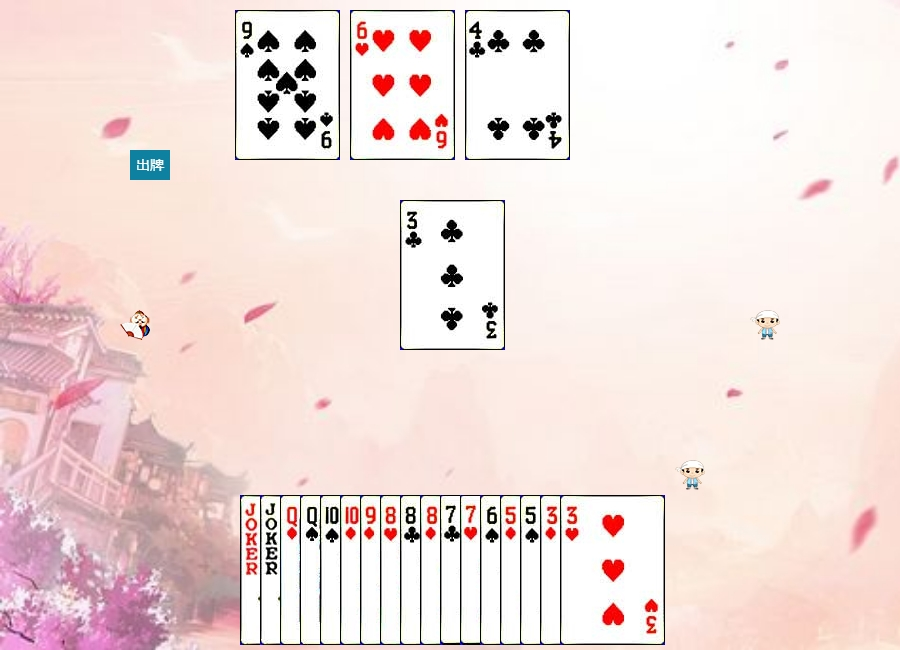10~1: (340, 495, 445, 645)
10~4: (320, 495, 425, 645)
12~1: (280, 495, 385, 645)
12~4: (300, 495, 405, 645)
17~3: (260, 495, 365, 645)
18~4: (240, 495, 345, 645)
3~1: (540, 495, 645, 645)
3~2: (400, 200, 505, 350)
3~3: (560, 495, 665, 645)
4~2: (465, 10, 570, 160)
5~1: (500, 495, 605, 645)
5~4: (520, 495, 625, 645)
6~3: (350, 10, 455, 160)
6~4: (480, 495, 585, 645)
7~2: (440, 495, 545, 645)
7~3: (460, 495, 565, 645)
8~1: (420, 495, 525, 645)
8~2: (400, 495, 505, 645)
8~3: (380, 495, 485, 645)
9~1: (360, 495, 465, 645)
9~4: (235, 10, 340, 160)
